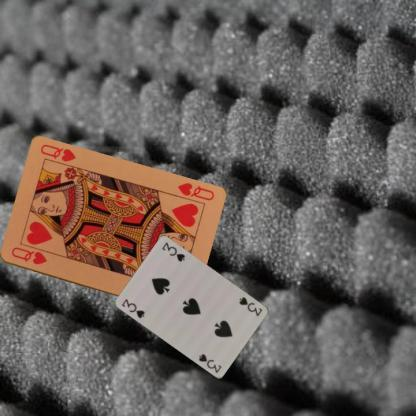3s: (236, 294, 264, 318), (119, 296, 146, 320)
Qh: (174, 180, 216, 202), (8, 244, 48, 266)
